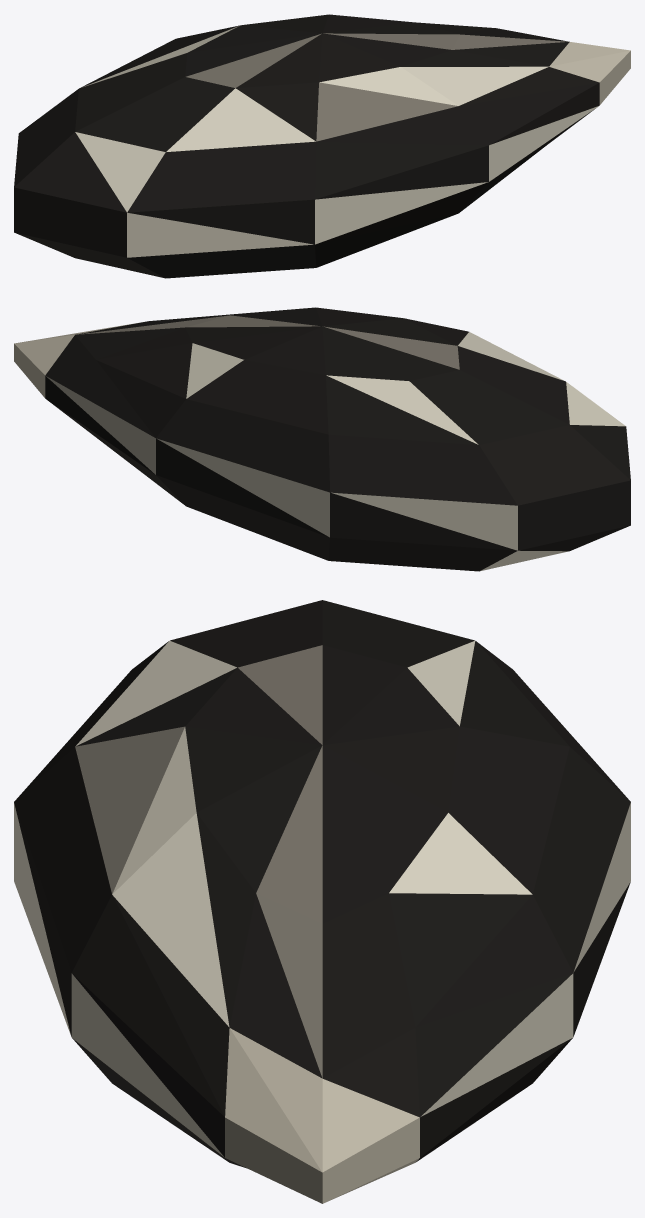
The model's file is food-seed.glb.
The picture shows the model from 3 angles, top to bottom: view 1: azimuth 30°, elevation 25°; view 2: azimuth 150°, elevation 25°; view 3: azimuth 270°, elevation 25°; orthographic projection. The views are drawn at different scales.
Bounding box in the file's own units: 3.31 × 1.04 × 1.63.
